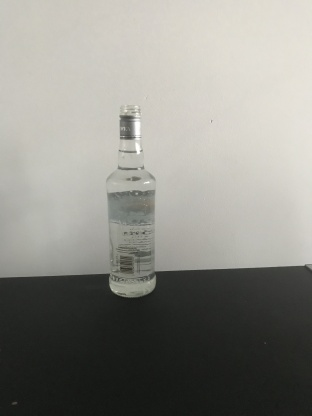nakretka: (117, 102, 142, 141)
